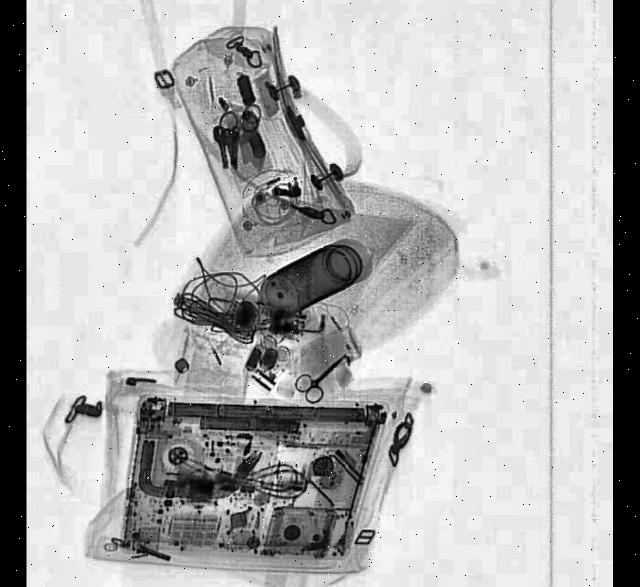Scissors: (294, 339, 354, 408)
